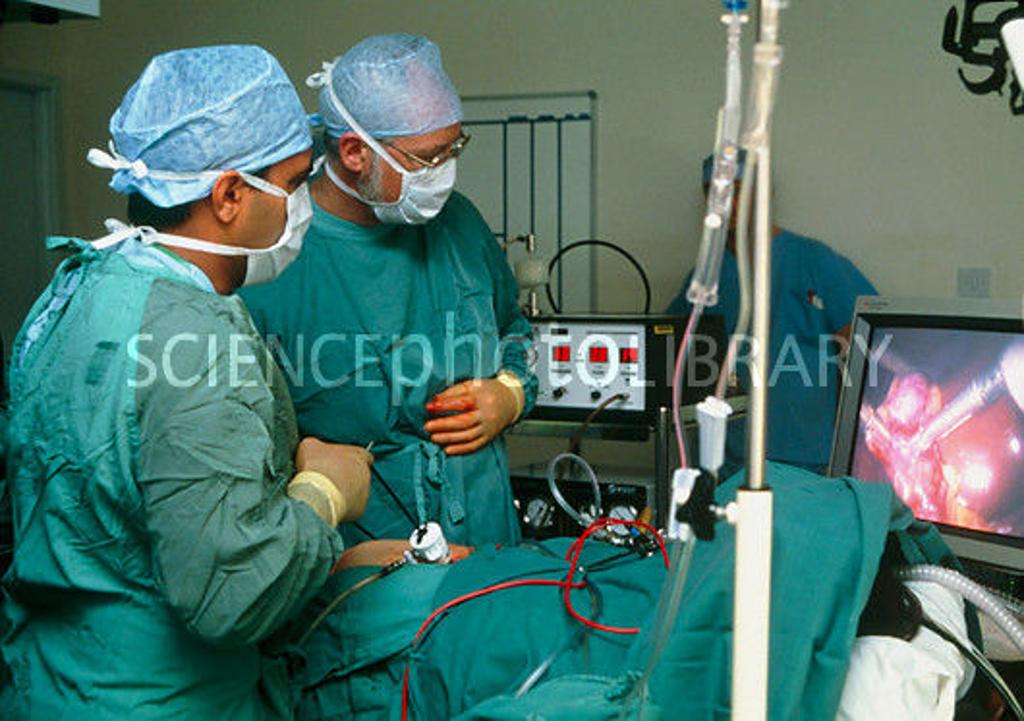face_mask: (372, 126, 466, 220), (248, 136, 312, 268)
